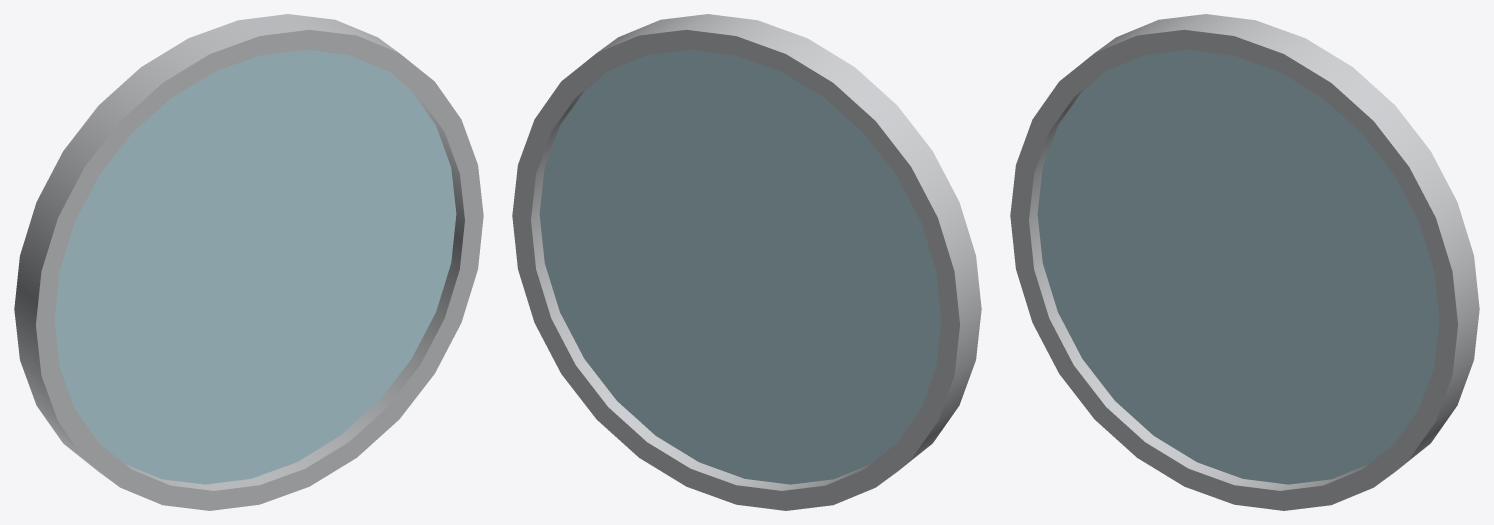
Rendered from opening.window.round_1200.glb.
The picture shows the model from 3 angles, left to right: view 1: azimuth 30°, elevation 25°; view 2: azimuth 150°, elevation 25°; view 3: azimuth 330°, elevation 25°; orthographic projection.
Parts seen in each view (by area): view 1: glazing__glass, frame__aluminium; view 2: glazing__glass, frame__aluminium; view 3: glazing__glass, frame__aluminium.
Part boxes in pixels (x1,y1,x2,y2): glazing__glass: (54,50,456,484); frame__aluminium: (14,14,483,510); glazing__glass: (539,50,941,484); frame__aluminium: (512,14,981,510); glazing__glass: (1037,50,1439,484); frame__aluminium: (1010,14,1479,510).
Size of the model in its own units: 1.2 by 1.2 by 0.1.
